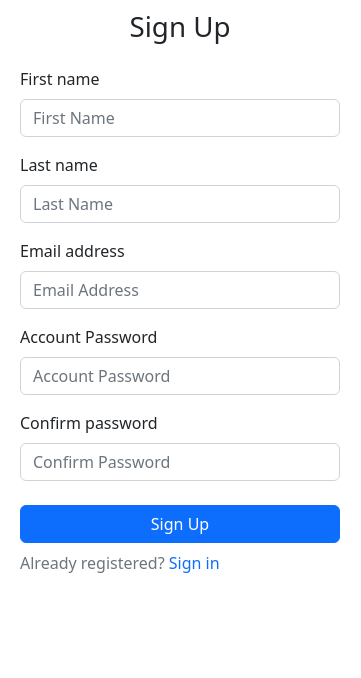
Test: Testing SignUp component › Testing with empty inputs
Click the button "Sign Up": (180, 524) [20,505,340,543]
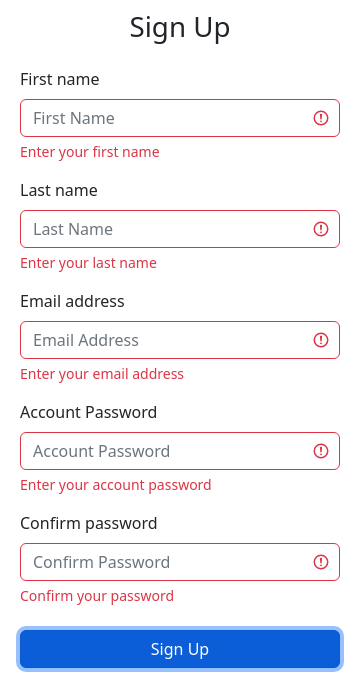
Result: the text "Enter your email address" is shown at [20,364,184,383]
Result: the text "Enter your first name" is shown at [20,142,160,161]
Result: the text "Enter your last name" is shown at [20,253,157,272]
